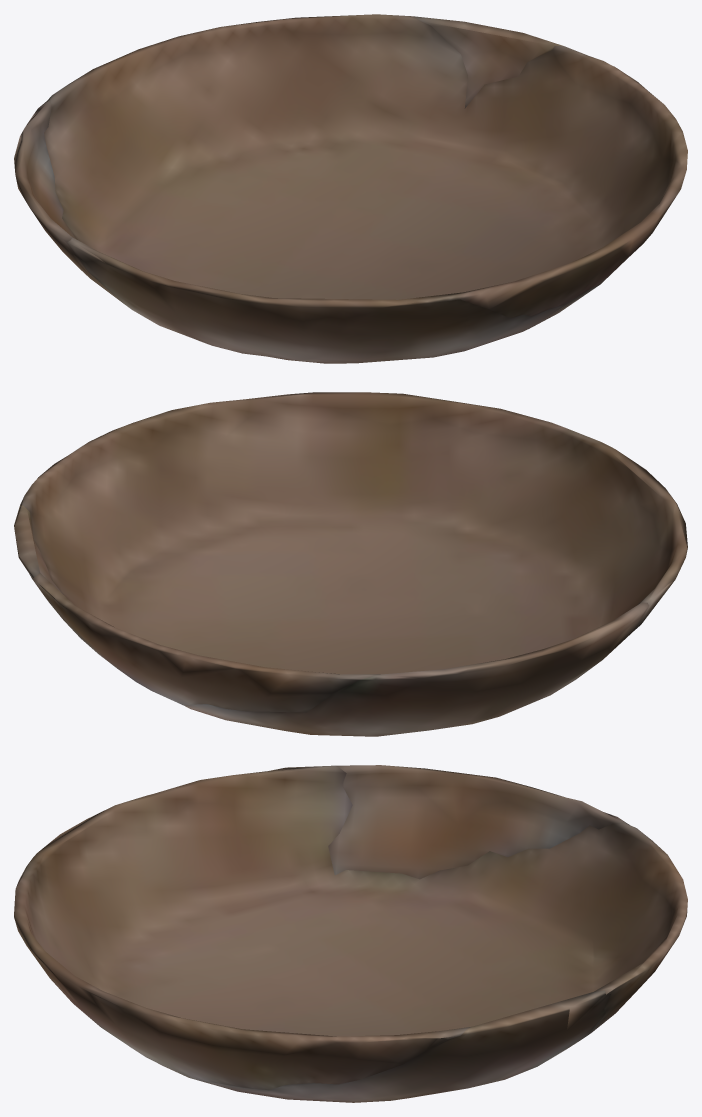
Rendered from Ecoforms_Plant_Saucer_S14MOCHA-medium.glb.
The picture shows the model from 3 angles, top to bottom: view 1: azimuth 30°, elevation 25°; view 2: azimuth 150°, elevation 25°; view 3: azimuth 270°, elevation 25°; orthographic projection.
Visible parts, largest first — view 1: Ecoforms_Plant_Saucer_S14MOCHA; view 2: Ecoforms_Plant_Saucer_S14MOCHA; view 3: Ecoforms_Plant_Saucer_S14MOCHA.
Boxes of the visible parts, bbox=[...] form: Ecoforms_Plant_Saucer_S14MOCHA: bbox=[14, 14, 687, 363]; Ecoforms_Plant_Saucer_S14MOCHA: bbox=[14, 392, 687, 736]; Ecoforms_Plant_Saucer_S14MOCHA: bbox=[14, 765, 687, 1102].
Size of the model in its own units: 0.1478 by 0.0271 by 0.1475.
1 material, 1 textured.
